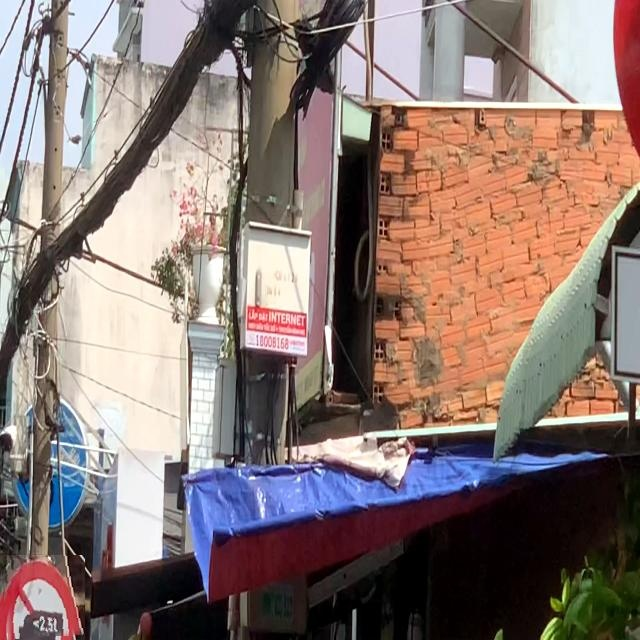bien_cam: (0, 555, 85, 640)
